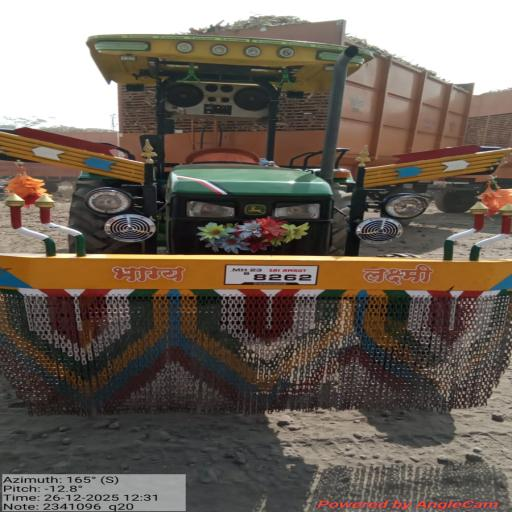number_plate: (207, 260, 327, 292)
